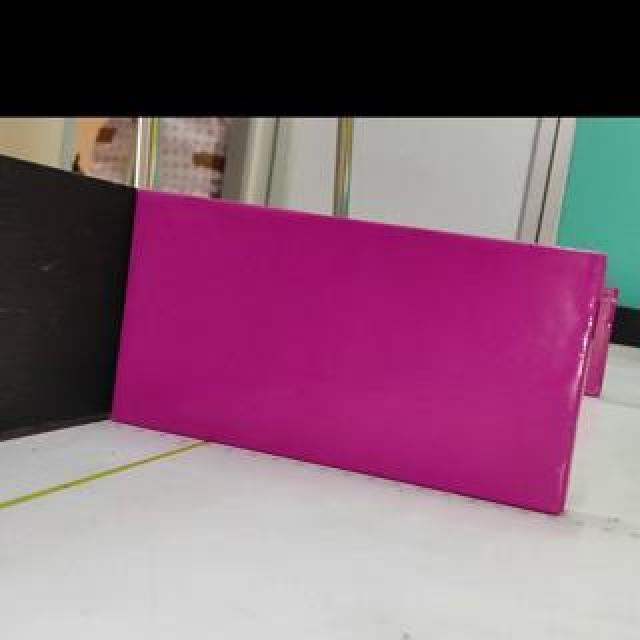xparking: (112, 193, 605, 514)
